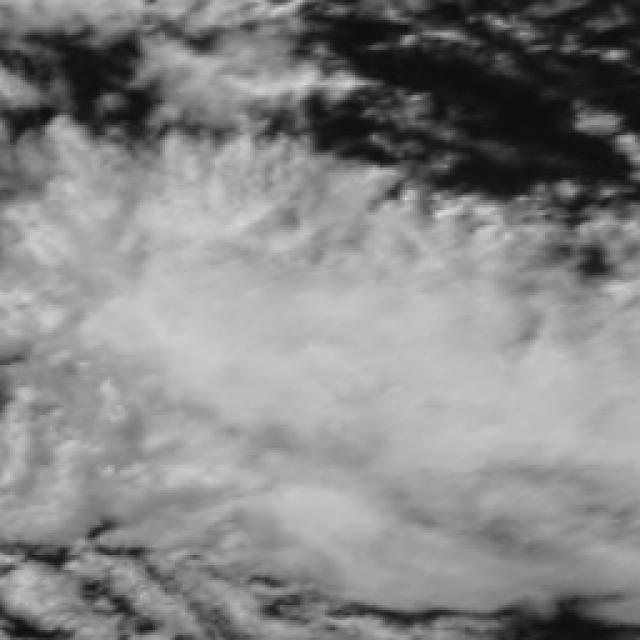CB: (141, 244, 429, 394), (374, 354, 596, 456)
